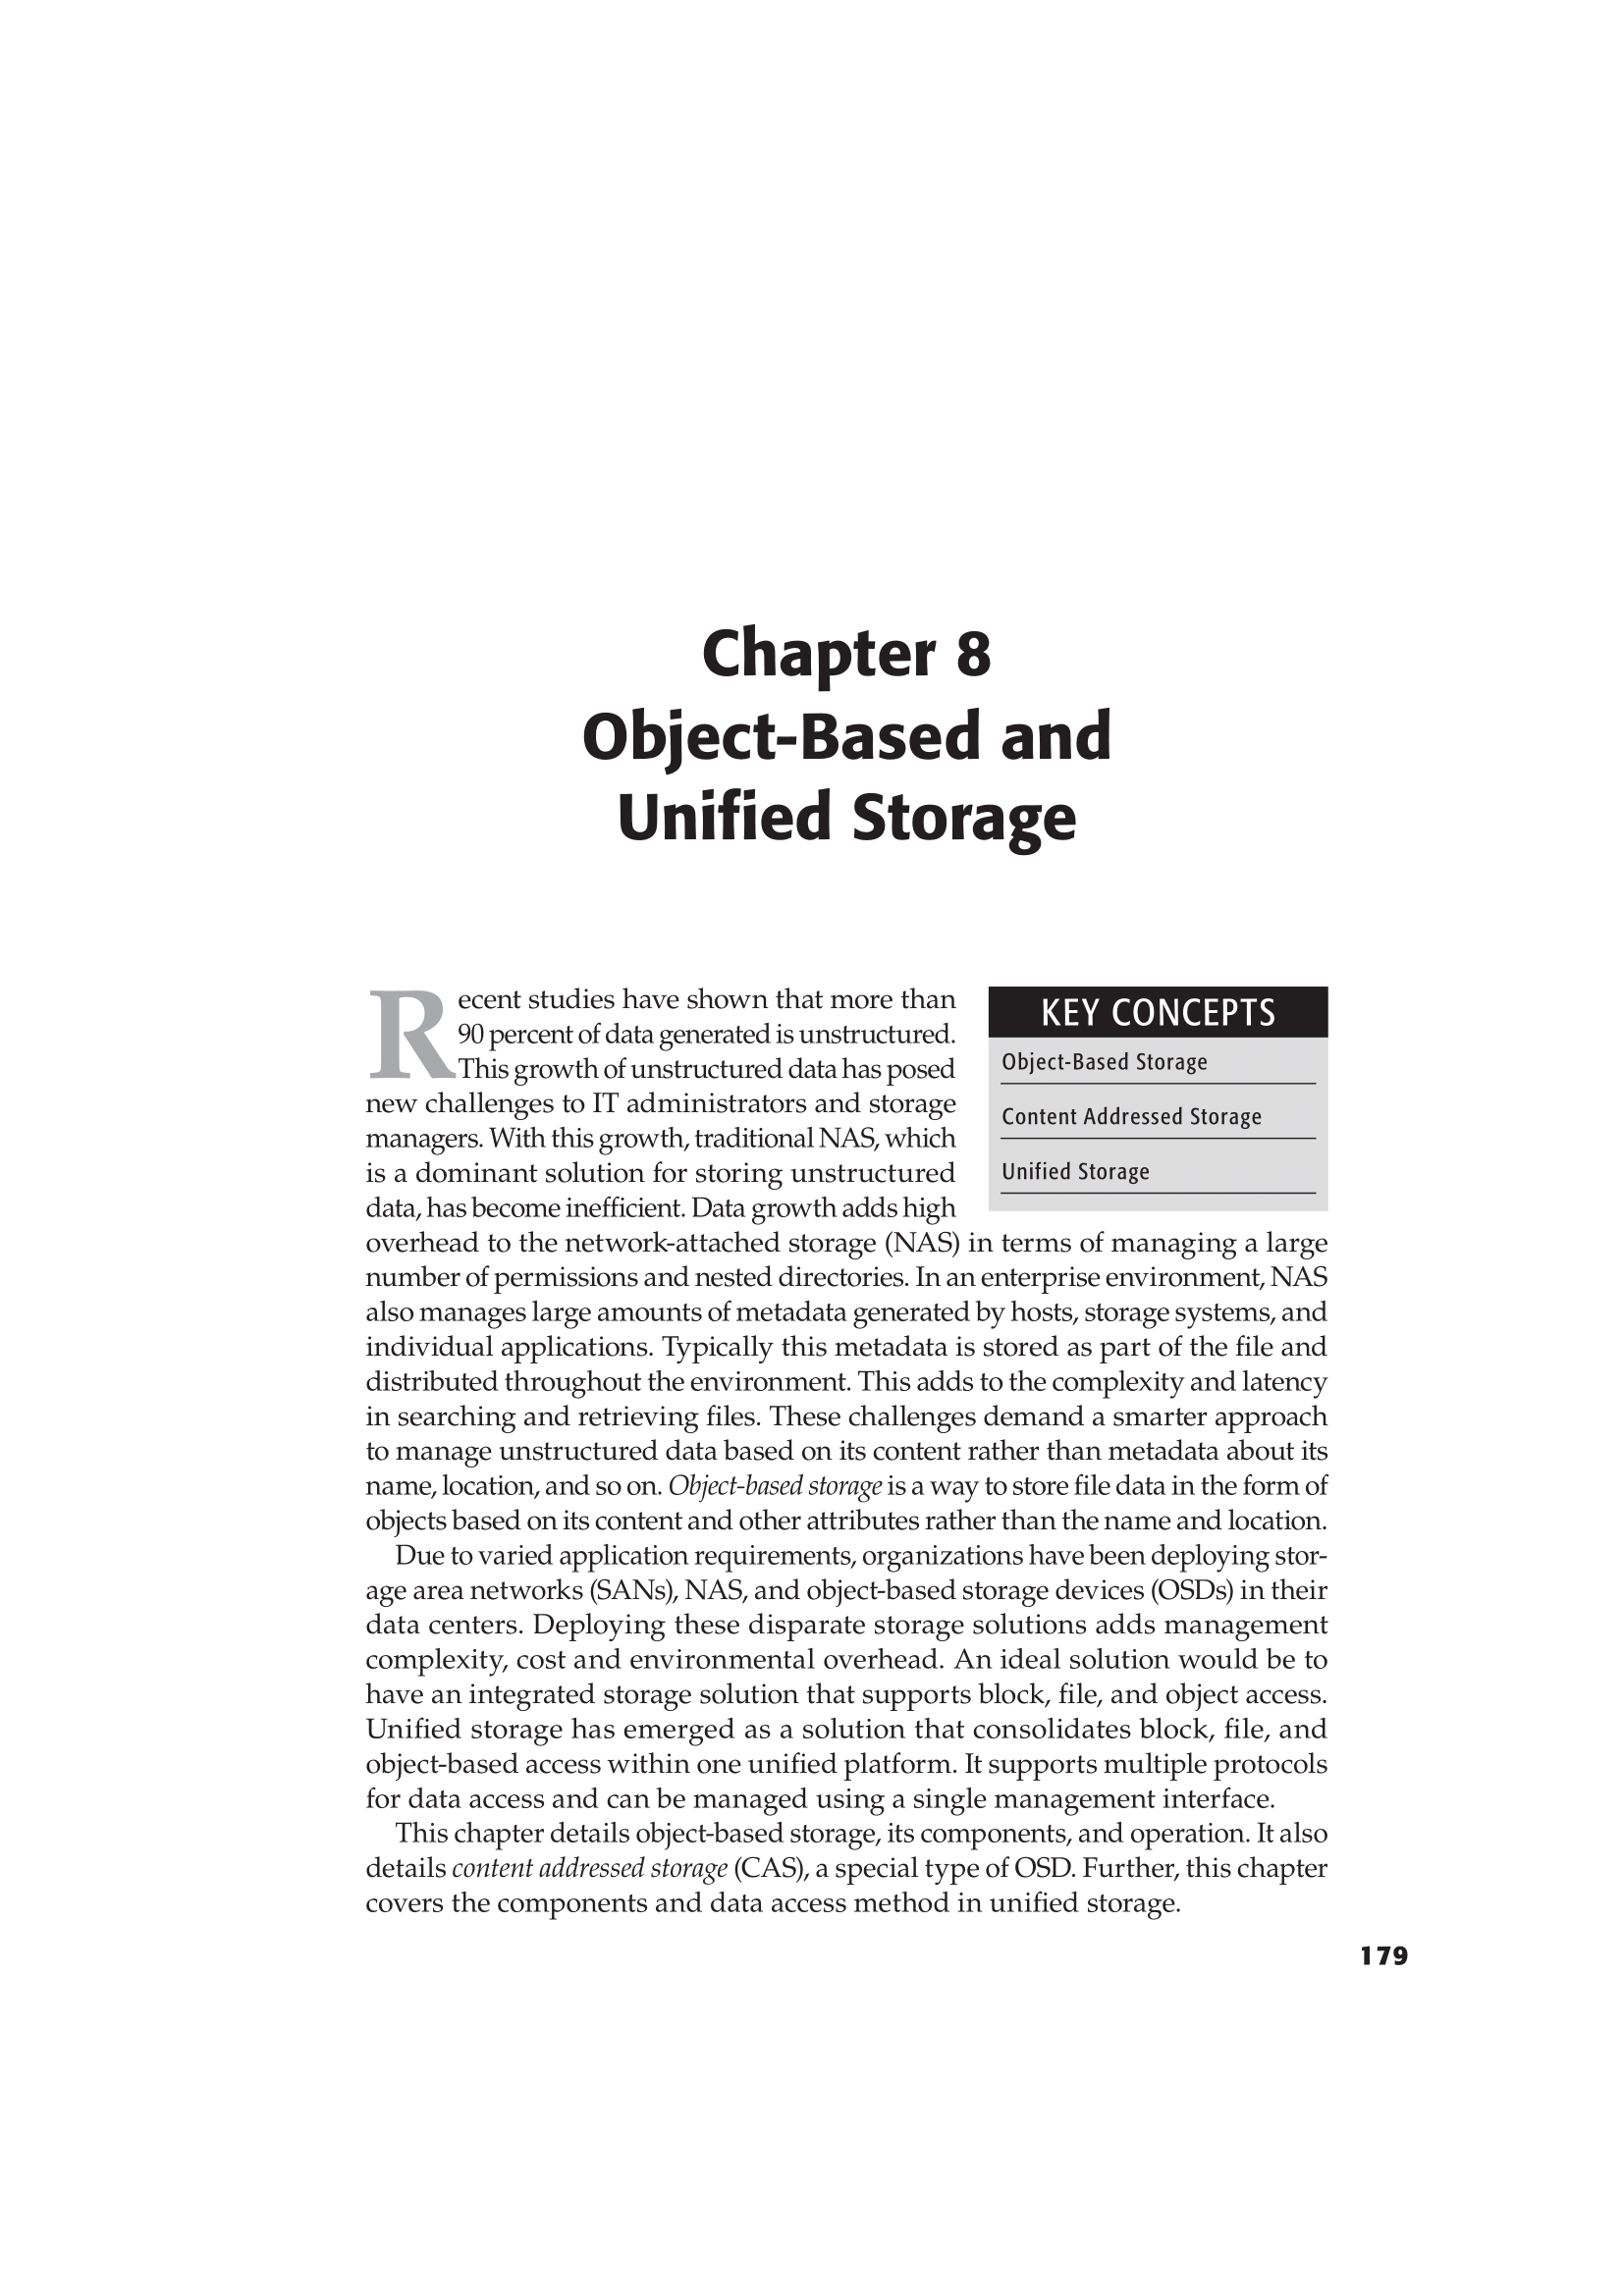Paragraph: (295, 1231, 1331, 1933), (267, 943, 961, 1231), (495, 700, 1212, 885), (460, 556, 1207, 695), (1008, 964, 1326, 1037), (998, 1044, 1277, 1092), (994, 1099, 1273, 1146), (987, 1153, 1266, 1201)
